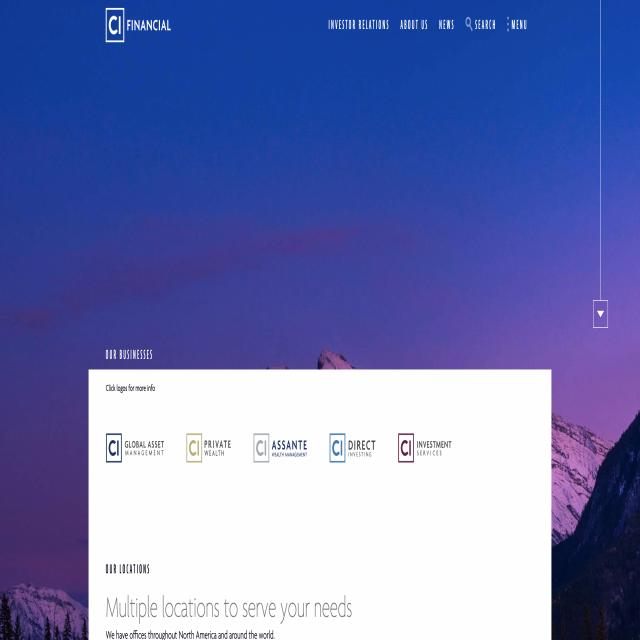Logo: (90, 2, 180, 76)
Navigation: (328, 0, 580, 53)
